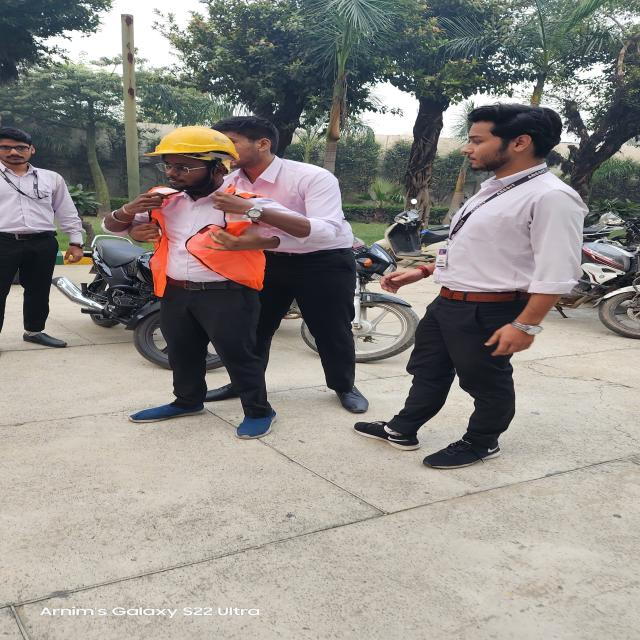safe: (120, 125, 286, 441)
unsafe: (364, 98, 598, 466), (4, 128, 86, 360)
